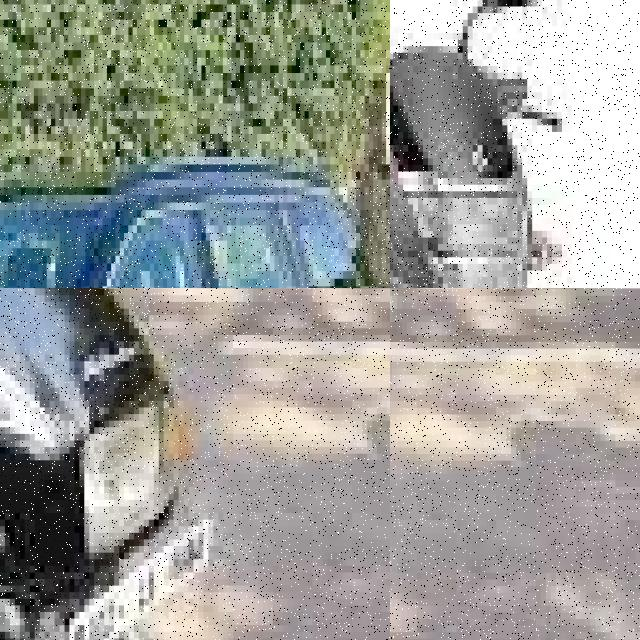bike: (0, 288, 390, 640), (390, 288, 610, 640), (390, 26, 640, 288)
car: (0, 149, 390, 288)
